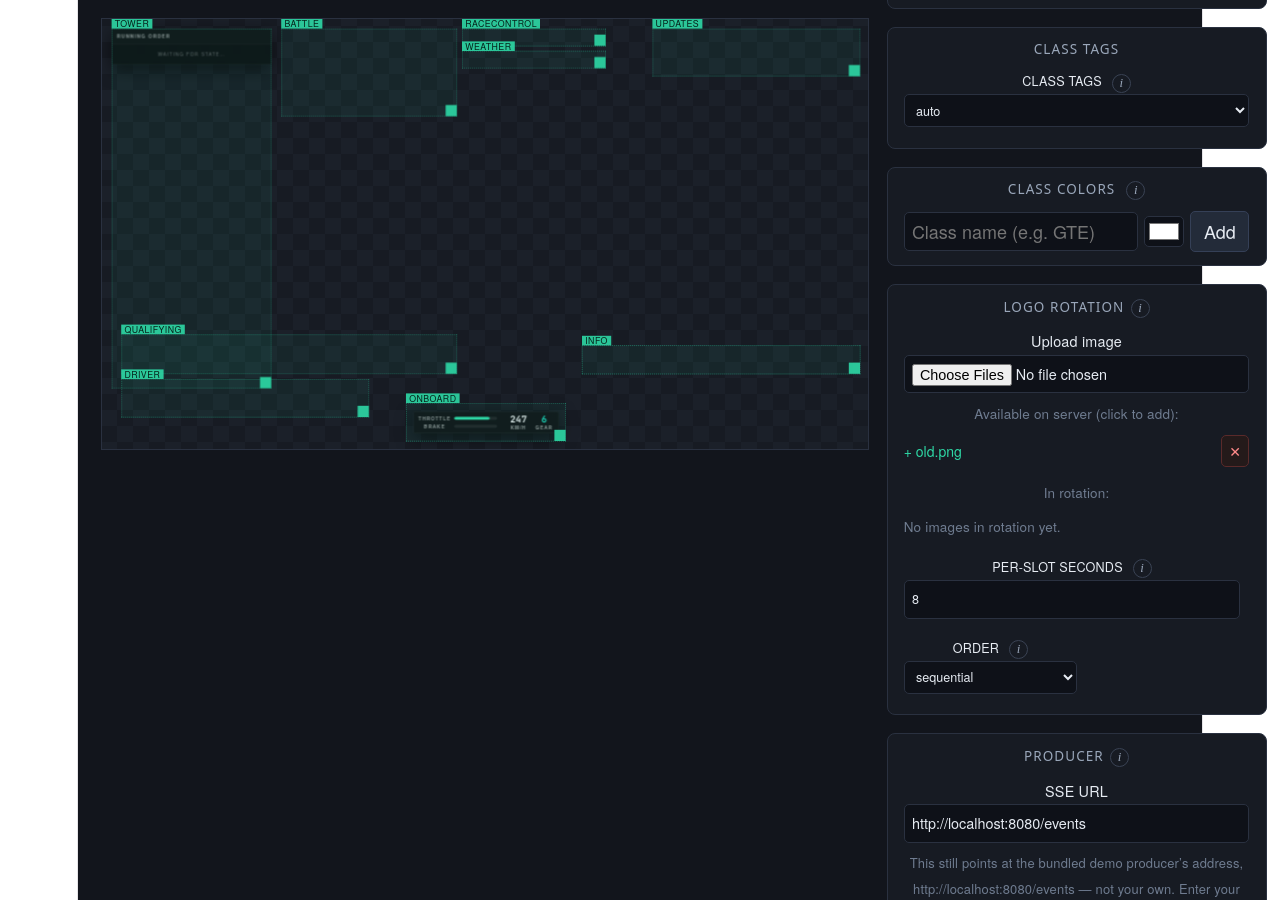
Test: deletes a logo from the server (not just the rotation) and refreshes the list
The width and height of the screenshot is (1280, 900).
(page scrolled)
What coordinates should you click on to do the following:
click the button with test id "delete-server-logo"
I would click on:
 (1235, 451)
Its box is x1=1221 y1=435 x2=1249 y2=466.
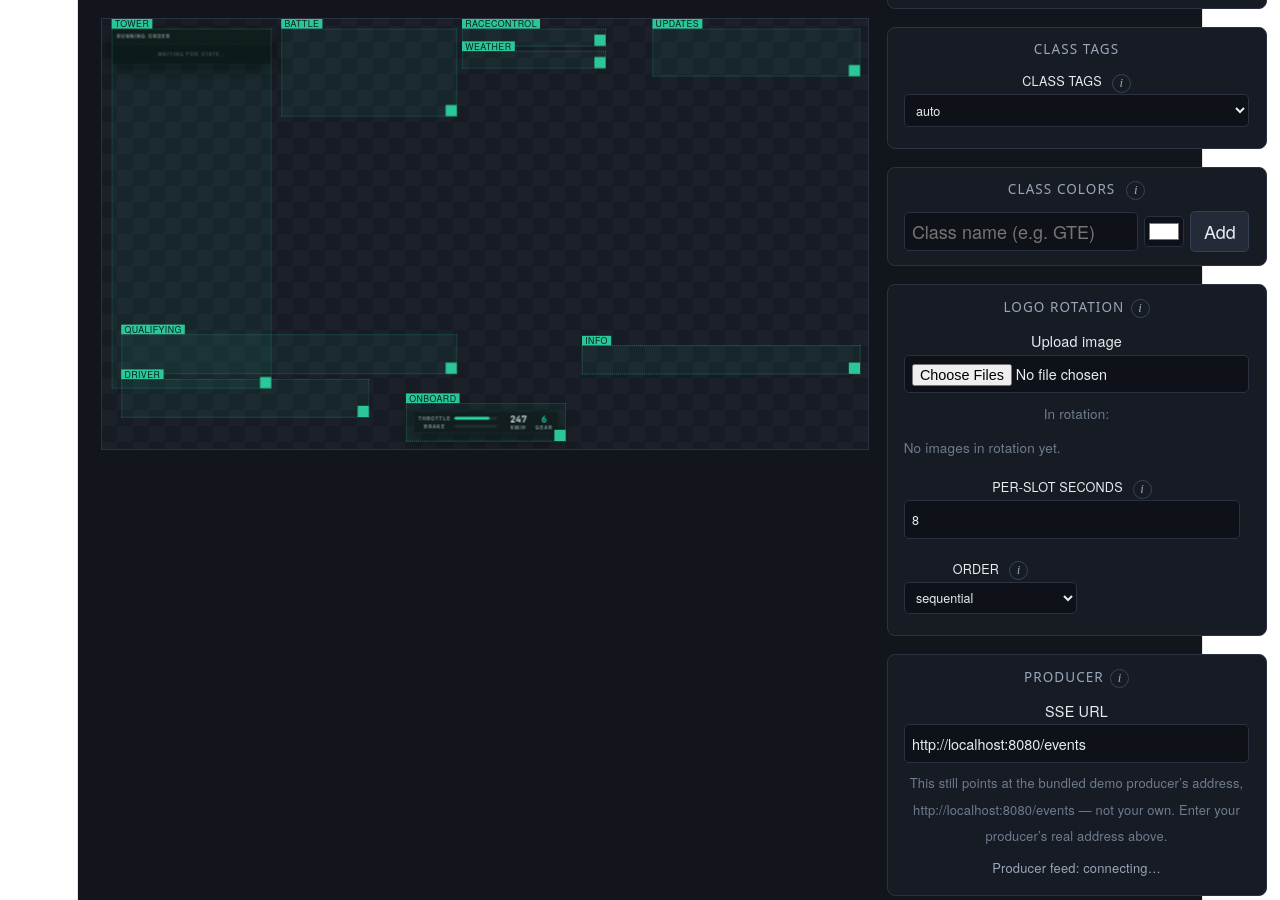
Check: the button with test id "delete-server-logo" is gone
